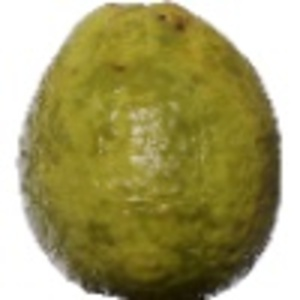goiaba: (11, 3, 290, 298)
